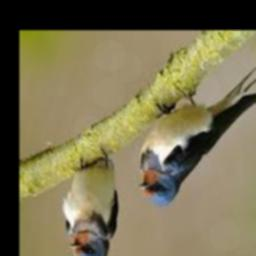Swallow: (138, 34, 256, 206), (63, 155, 119, 256)
